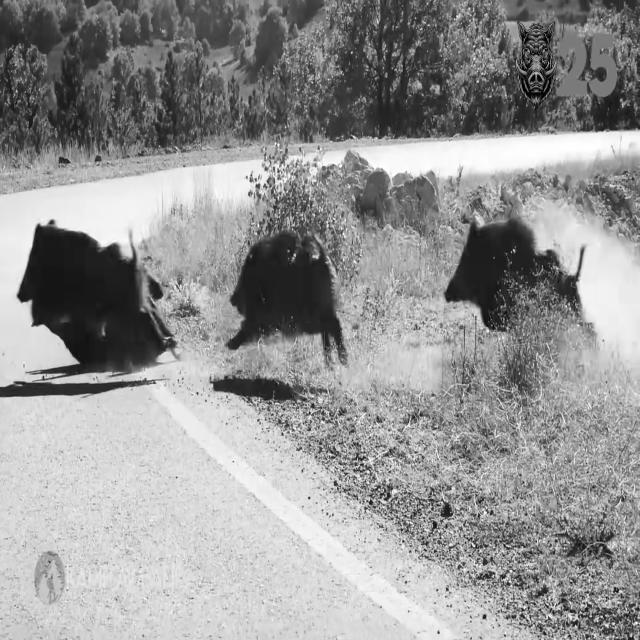boar: (17, 223, 174, 361), (227, 233, 347, 363), (444, 218, 584, 329), (516, 20, 558, 106)
